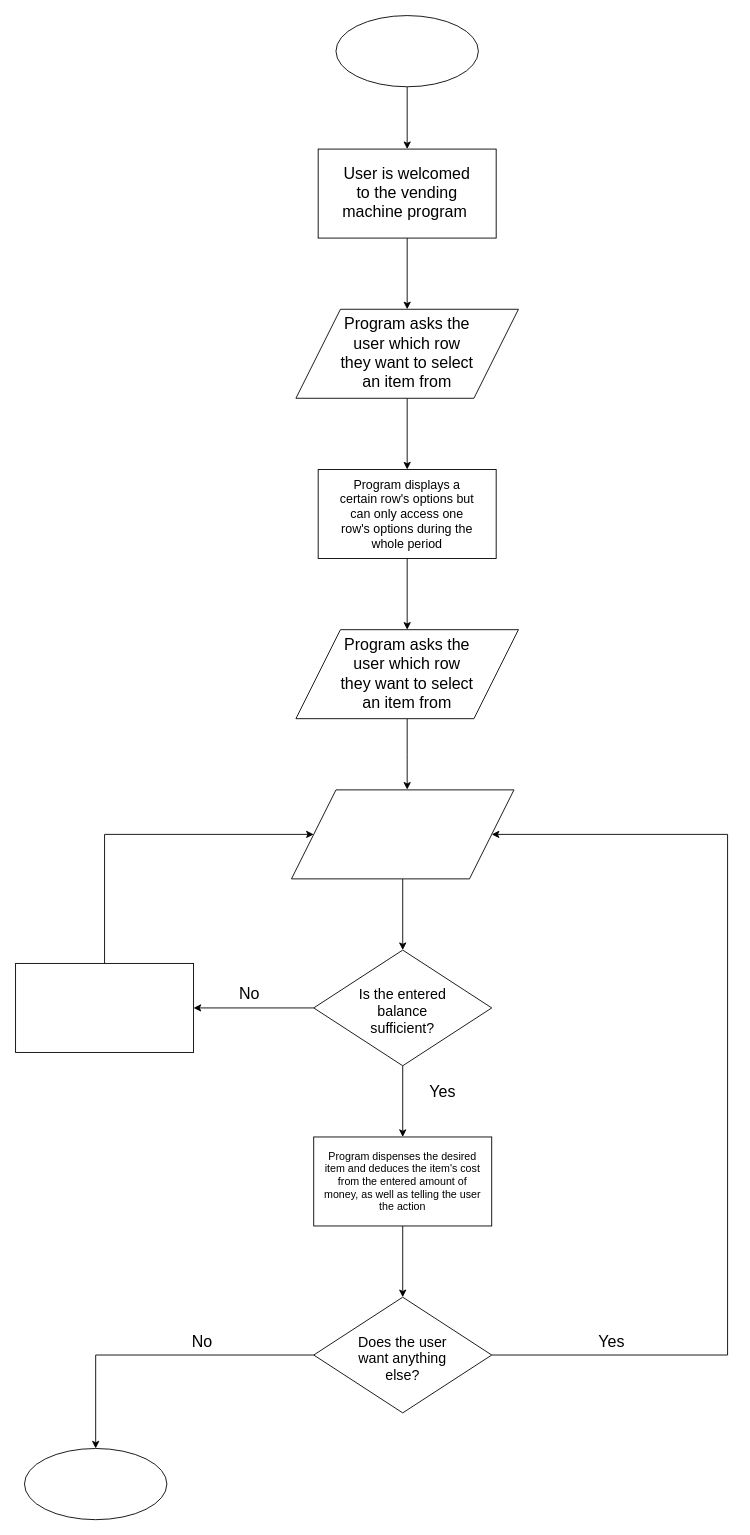
Image size: 750x1535. Some labels were removed from this diagram. Here are the shapes that lost their labels. From the top down, the centre of each, then its label:
the point at 406,51: Start
the point at 402,834: Program asks the user which item they wish to purchase
the point at 104,1007: Program tells the user the amount they entered is insufficient
the point at 95,1484: End
